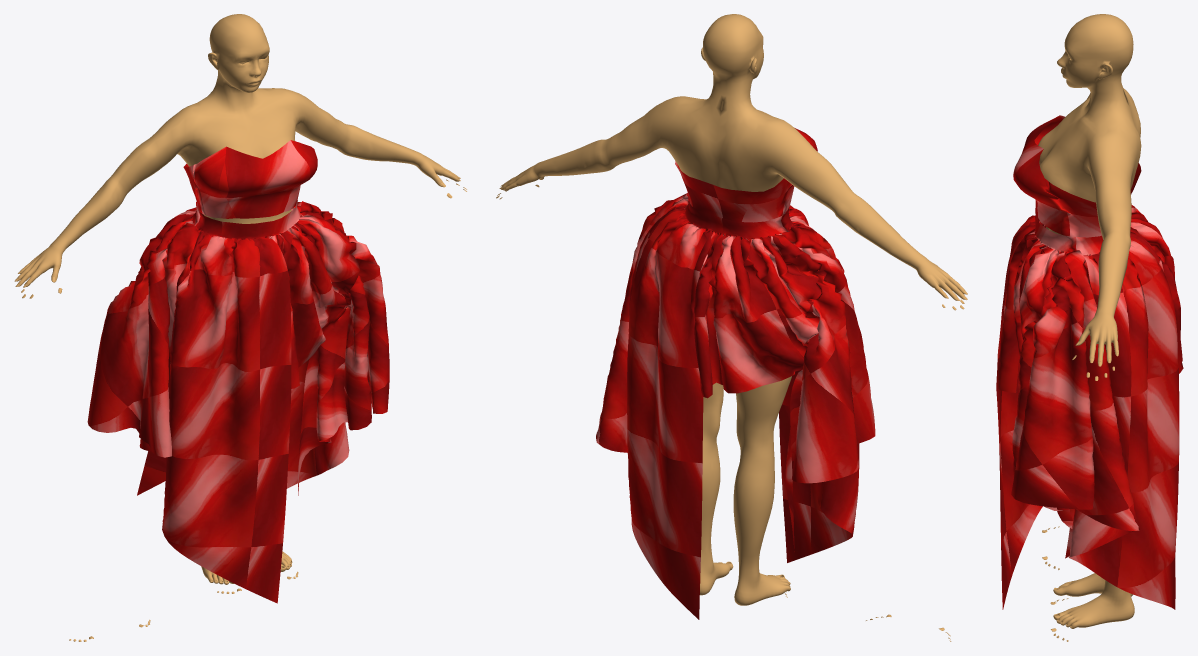
File: dress2.glb
3 views of the same model, side by side, from view 1: azimuth 30°, elevation 25°; view 2: azimuth 150°, elevation 25°; view 3: azimuth 270°, elevation 25° (orthographic). The views are drawn at different scales.
Visible parts, largest first — view 1: Project 1, Body.003; view 2: Project 1, Body.003; view 3: Project 1, Body.003.
Part boxes in pixels (x1=…): Project 1: x1=87, y1=140, x2=389, y2=603; Body.003: x1=17, y1=14, x2=459, y2=584; Project 1: x1=596, y1=128, x2=875, y2=619; Body.003: x1=501, y1=14, x2=965, y2=605; Project 1: x1=996, y1=115, x2=1183, y2=609; Body.003: x1=1038, y1=14, x2=1141, y2=628.
Size of the model in its own units: 1.59 by 1.91 by 0.5299.
Materials: 4 (1 with a texture image).
